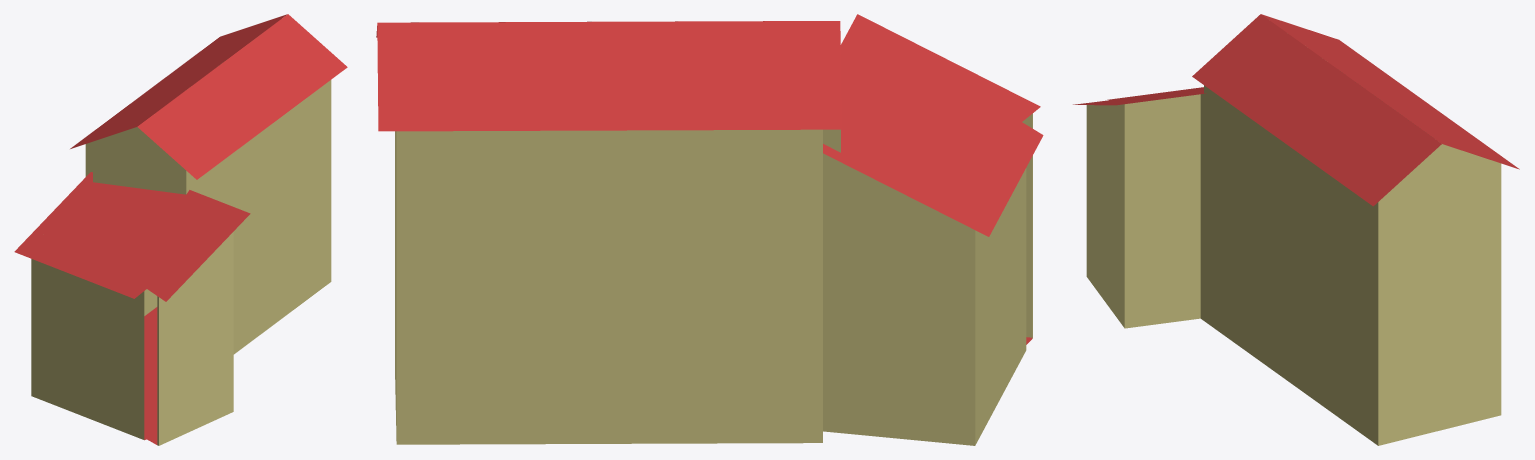
3 renders of one model, left to right at view 1: azimuth 30°, elevation 25°; view 2: azimuth 150°, elevation 25°; view 3: azimuth 270°, elevation 25°, orthographic. The views are drawn at different scales.
Size of the model in its own units: 17.56 by 15.84 by 11.42.
